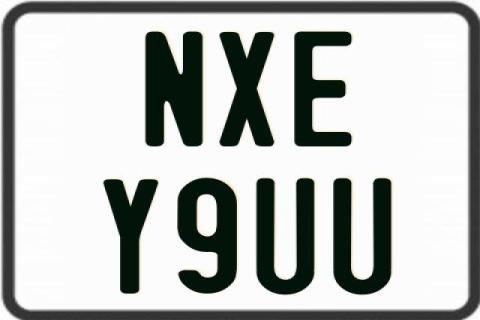0: (175, 176, 240, 296)
E: (294, 31, 358, 148)
N: (146, 29, 208, 147)
U: (330, 179, 391, 295), (256, 176, 315, 294)
X: (220, 32, 278, 150)
Y: (101, 180, 160, 298)
